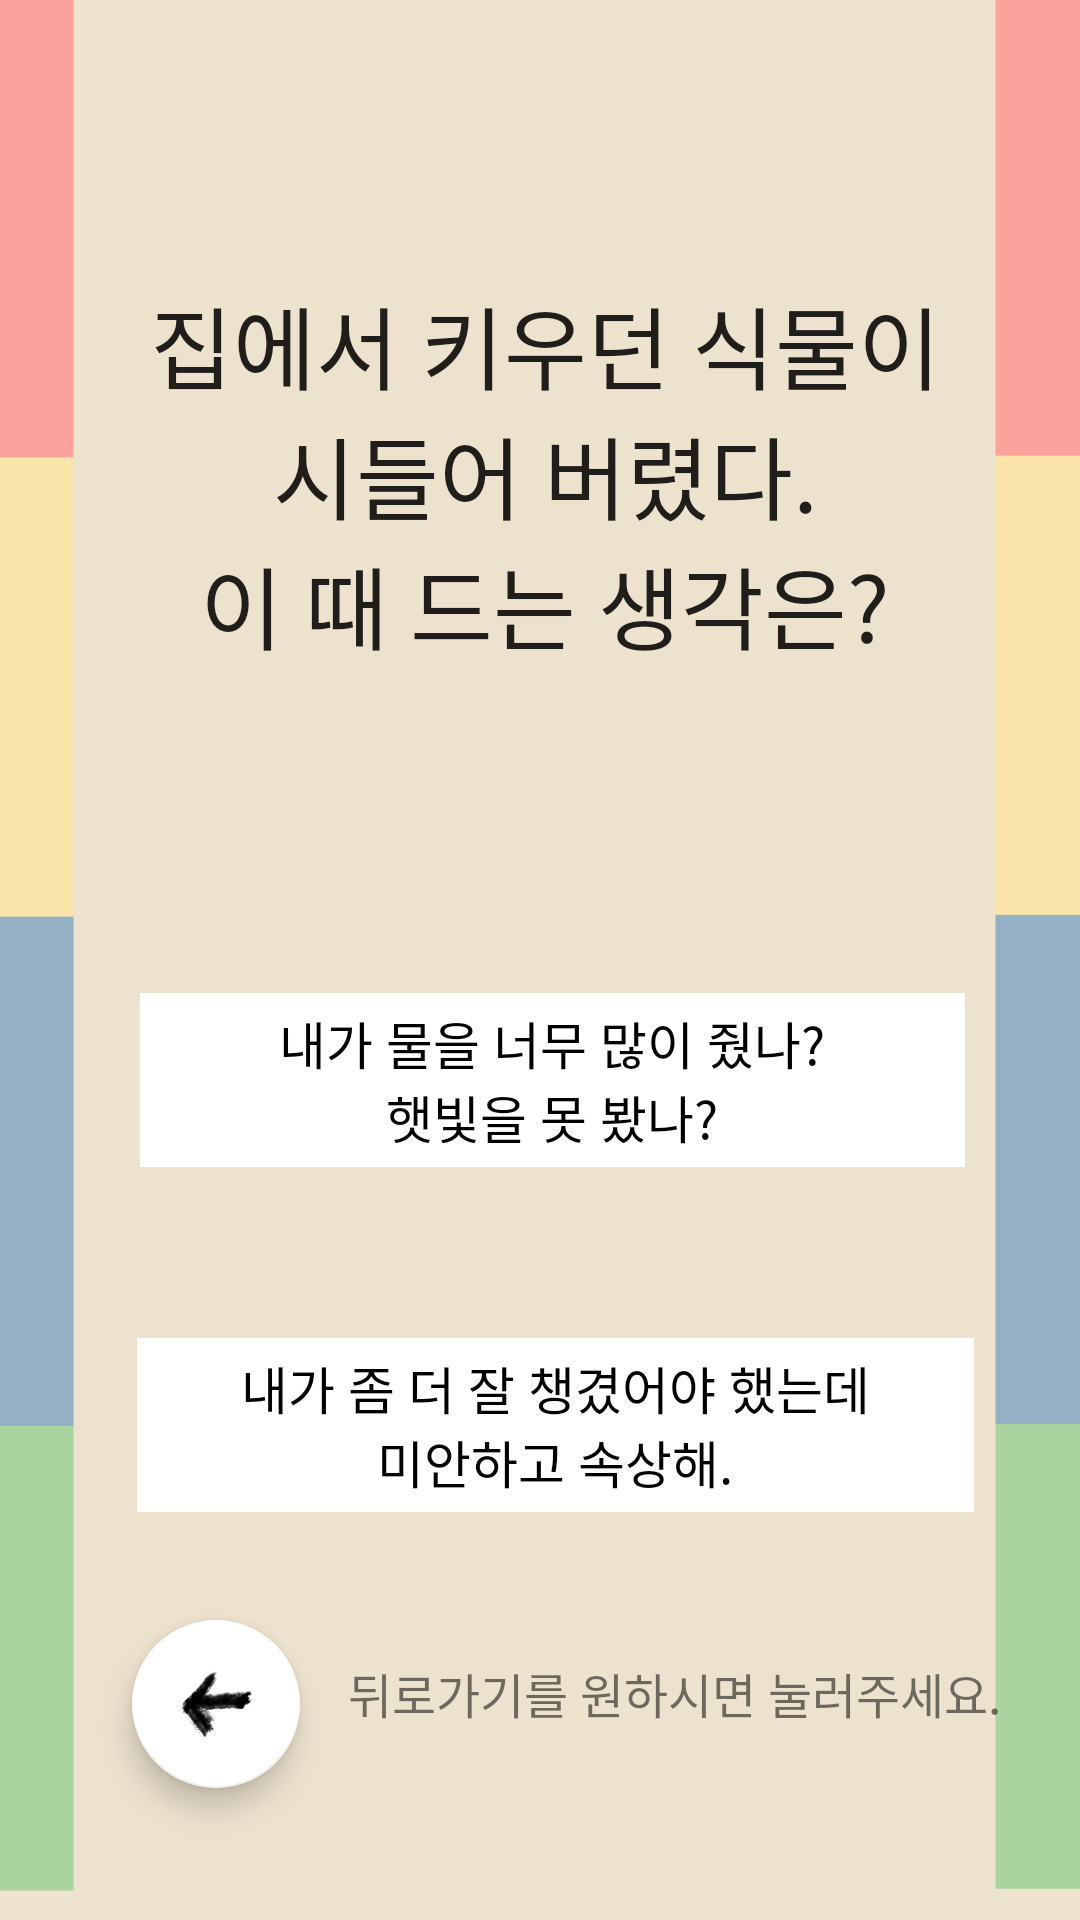

Locate icon controls on the screen. Image size 1080px x 1920px, boxes as (x1, y1, x2, y2).
back: (132, 1620, 300, 1788)
